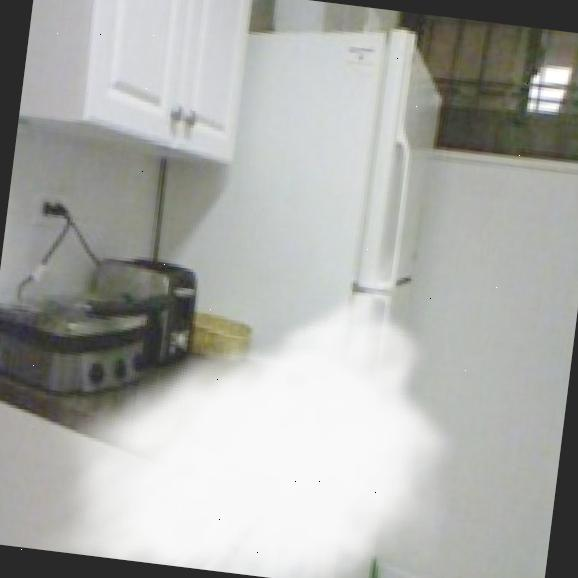smoke: (35, 204, 489, 578)
